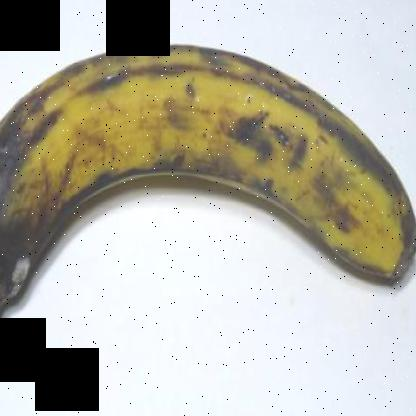overripe: (0, 30, 415, 342)
rotten: (0, 78, 101, 332)
